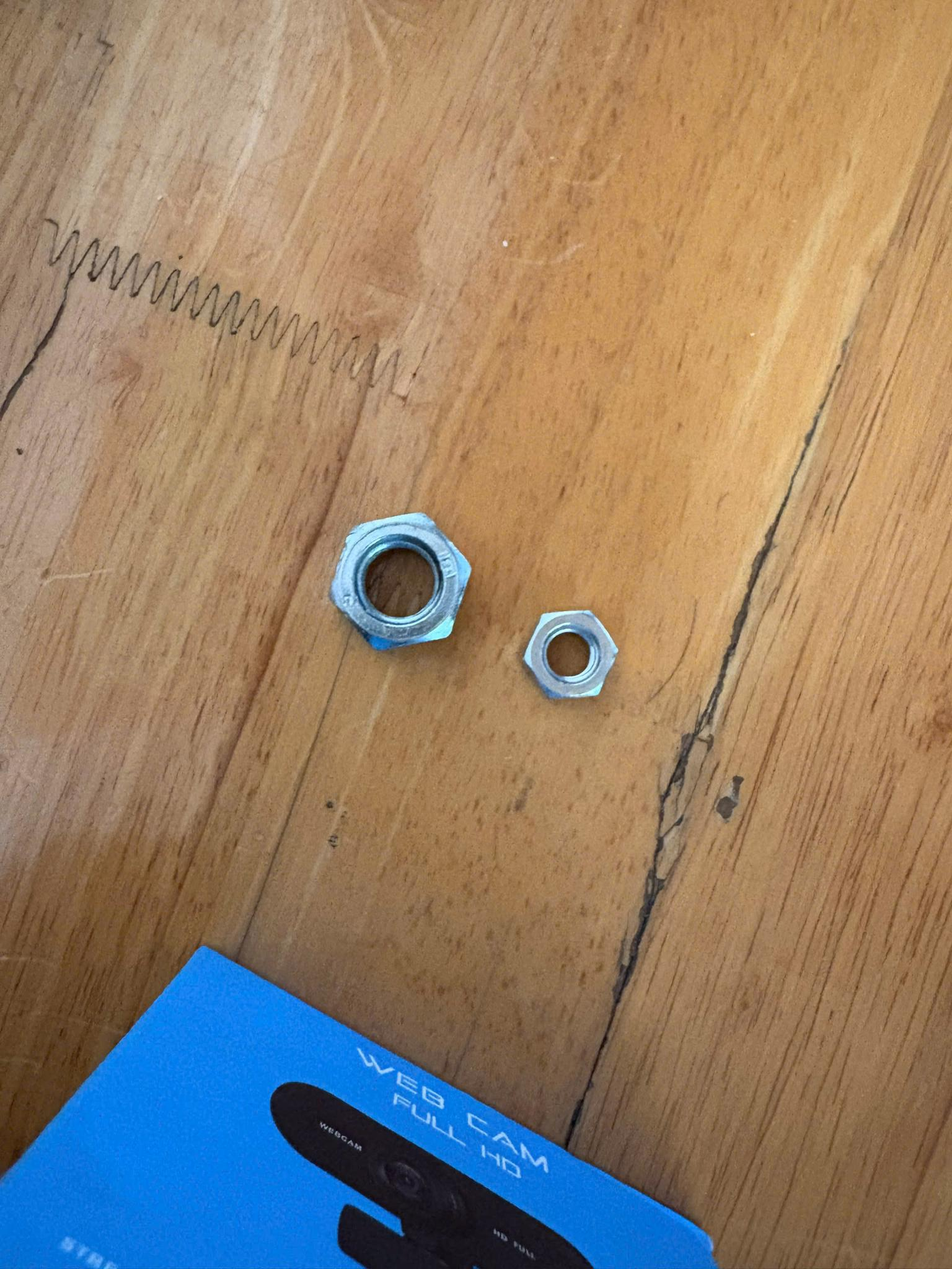nut: (317, 506, 478, 670), (516, 595, 629, 720)
